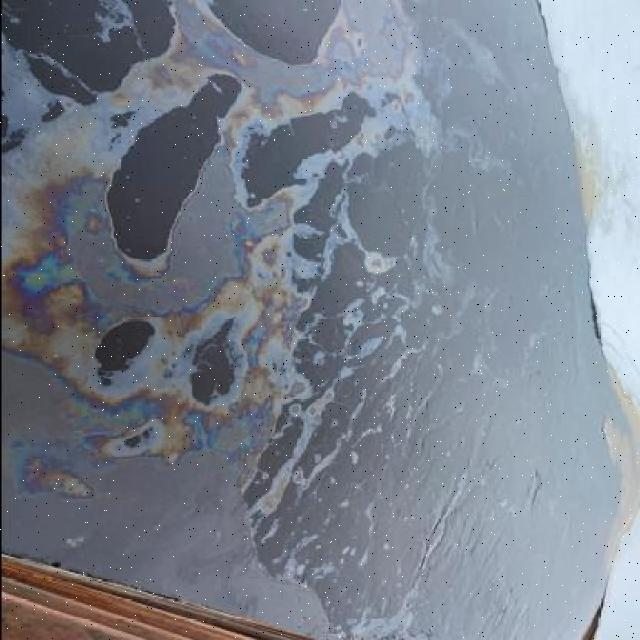oil: (8, 14, 450, 628)
